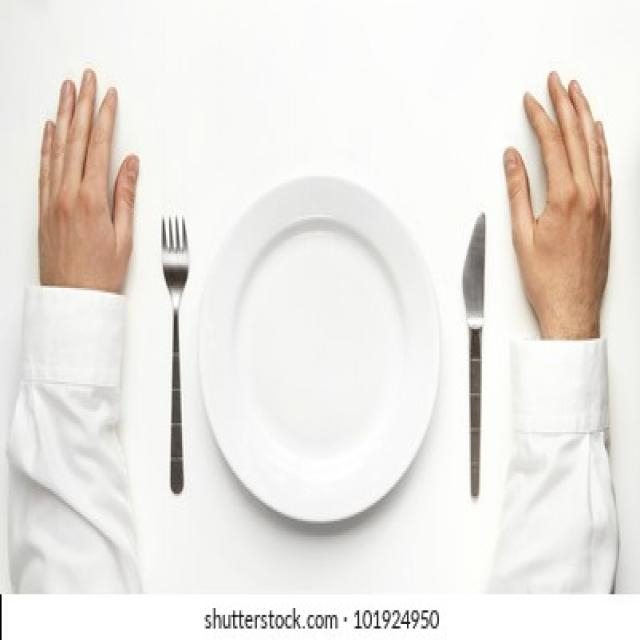fork: (158, 208, 194, 498)
plate: (197, 165, 449, 538)
